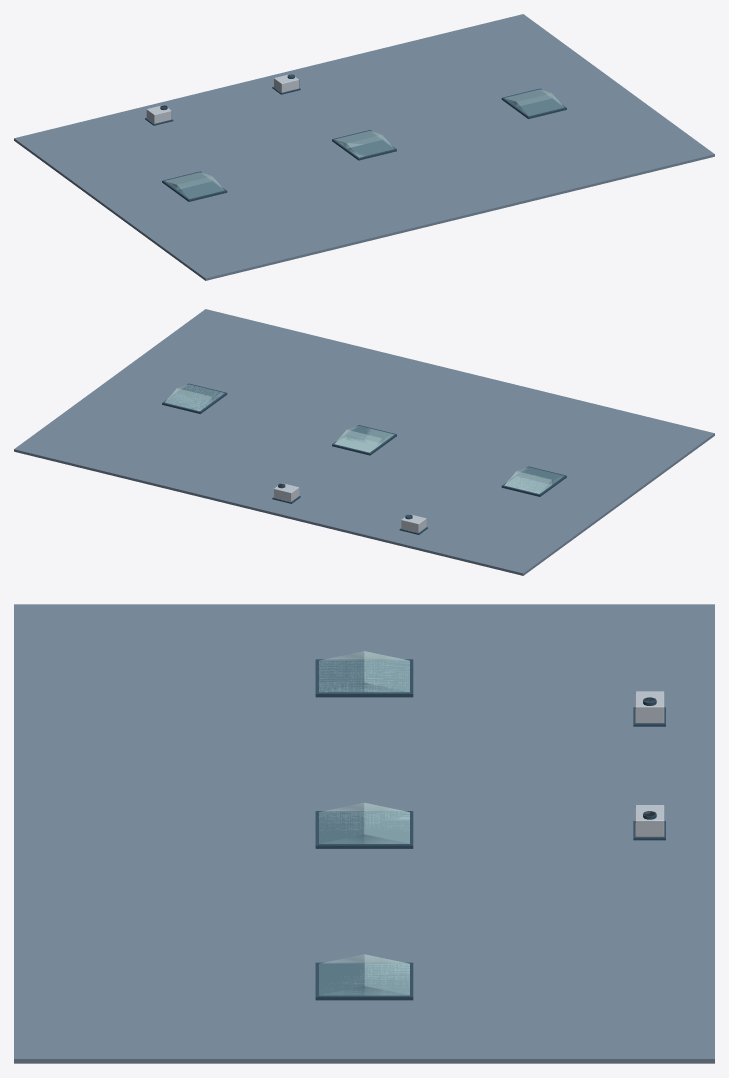
The model's file is CM_Shell_Roof_Supermarket.fbx.
3 renders of one model, top to bottom at view 1: azimuth 30°, elevation 25°; view 2: azimuth 150°, elevation 25°; view 3: azimuth 270°, elevation 25°, orthographic. The views are drawn at different scales.
Parts seen in each view (by area): view 1: Roof, Glass; view 2: Roof, Glass; view 3: Roof, Glass.
Part boxes in pixels (x1=…): Roof: x1=14, y1=14, x2=714, y2=280; Glass: x1=165, y1=89, x2=563, y2=198; Roof: x1=14, y1=309, x2=714, y2=575; Glass: x1=165, y1=384, x2=563, y2=493; Roof: x1=14, y1=604, x2=714, y2=1063; Glass: x1=319, y1=651, x2=409, y2=995.
Size of the model in its own units: 132 by 86 by 3.6.
Materials: 2 (2 with a texture image).
